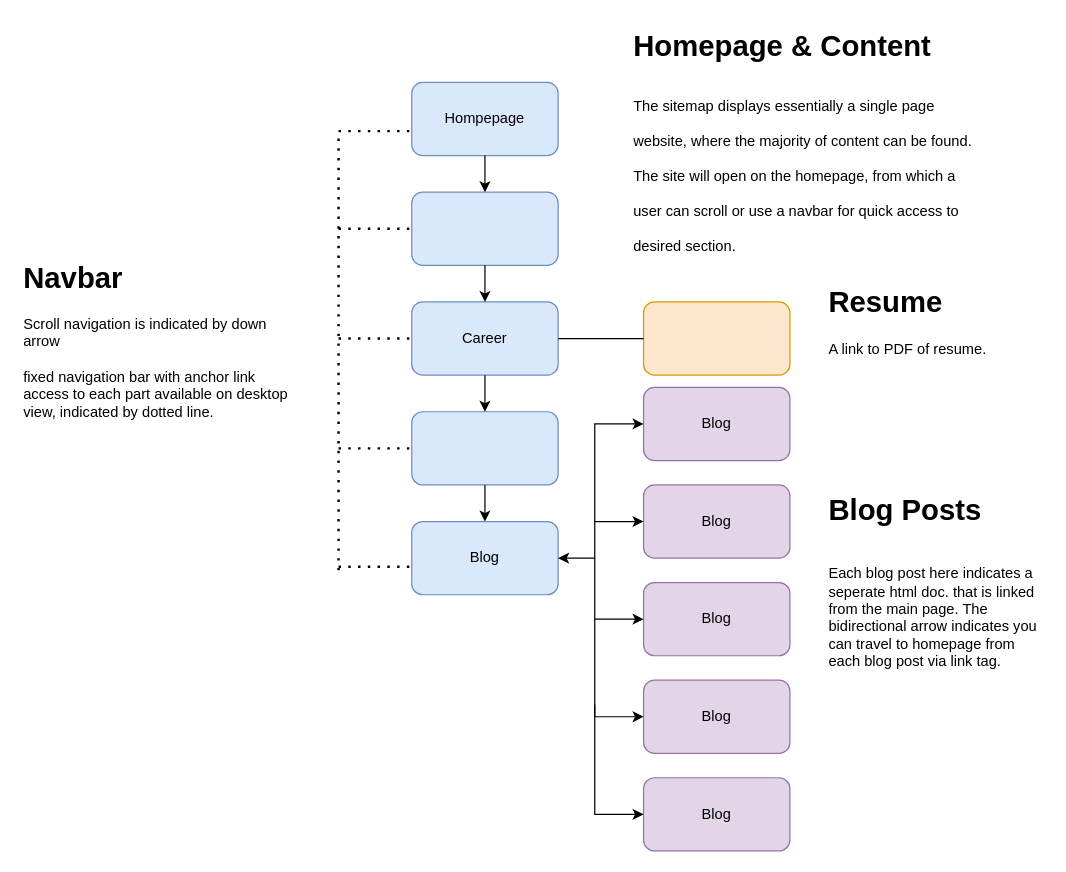
This 1066x872 diagram has some shape labels left out. Each missing label, with the centre of its shape:
"About" goes at point 484,228.
"Experience" goes at point 484,448.
"Resume" goes at point 716,338.
